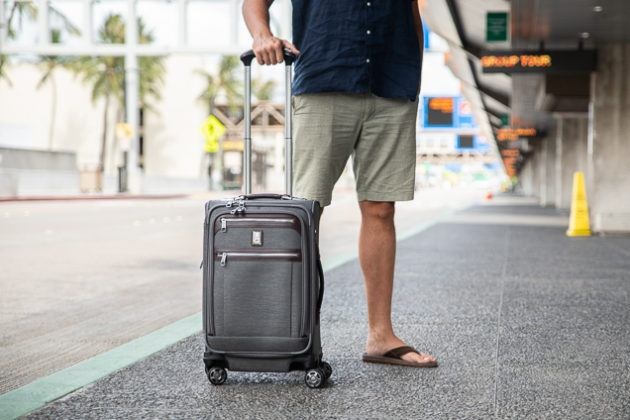luggage: (203, 56, 332, 391)
